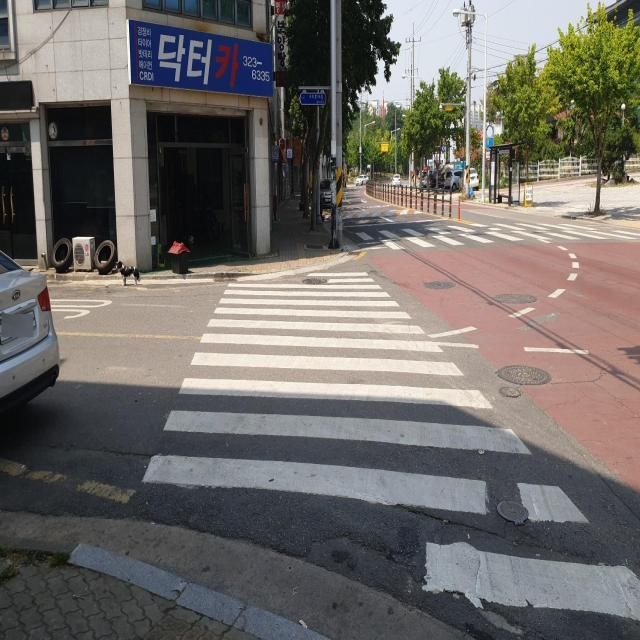횡단보도: (138, 264, 640, 626), (339, 220, 640, 251)
